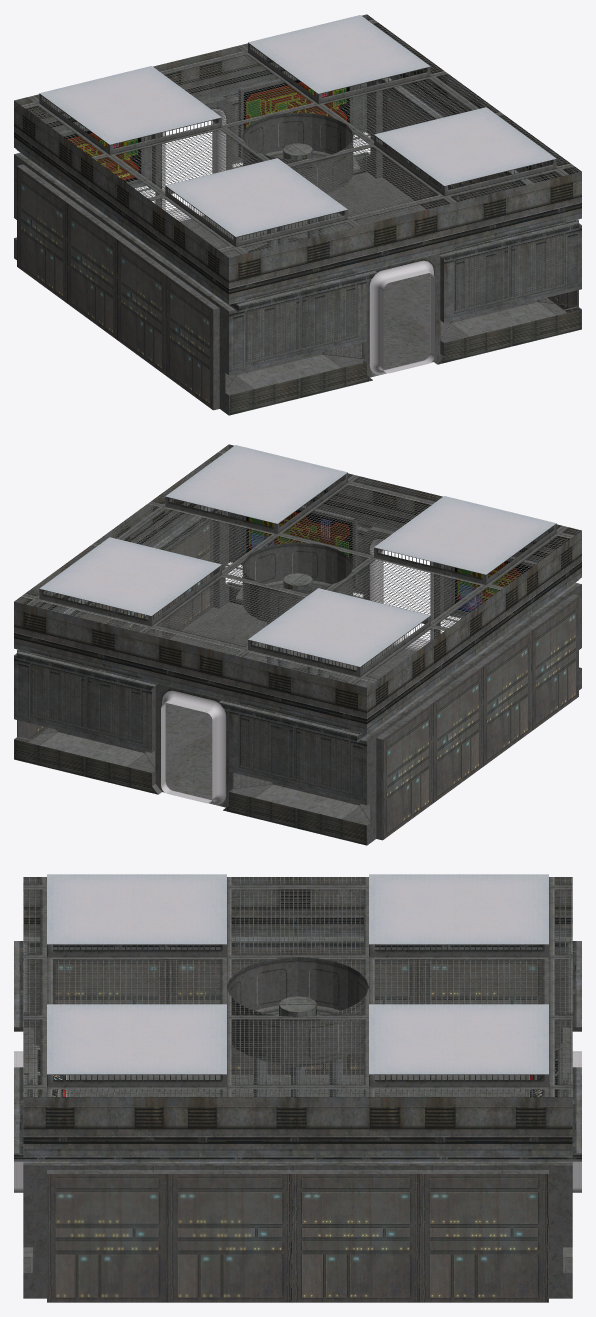
File: thm_spc_corvette_dungeon_r47_hyperdrive47_mesh_r47.fbx
The picture shows the model from 3 angles, top to bottom: view 1: azimuth 30°, elevation 25°; view 2: azimuth 150°, elevation 25°; view 3: azimuth 270°, elevation 25°; orthographic projection. The views are drawn at different scales.
Parts seen in each view (by area): view 1: mesh_node; view 2: mesh_node; view 3: mesh_node.
Part boxes in pixels (x1,y1,x2,y2): mesh_node: [14, 14, 581, 415]; mesh_node: [14, 444, 581, 845]; mesh_node: [14, 874, 581, 1302].
Bounding box in the file's own units: 11.4 × 5 × 12.
